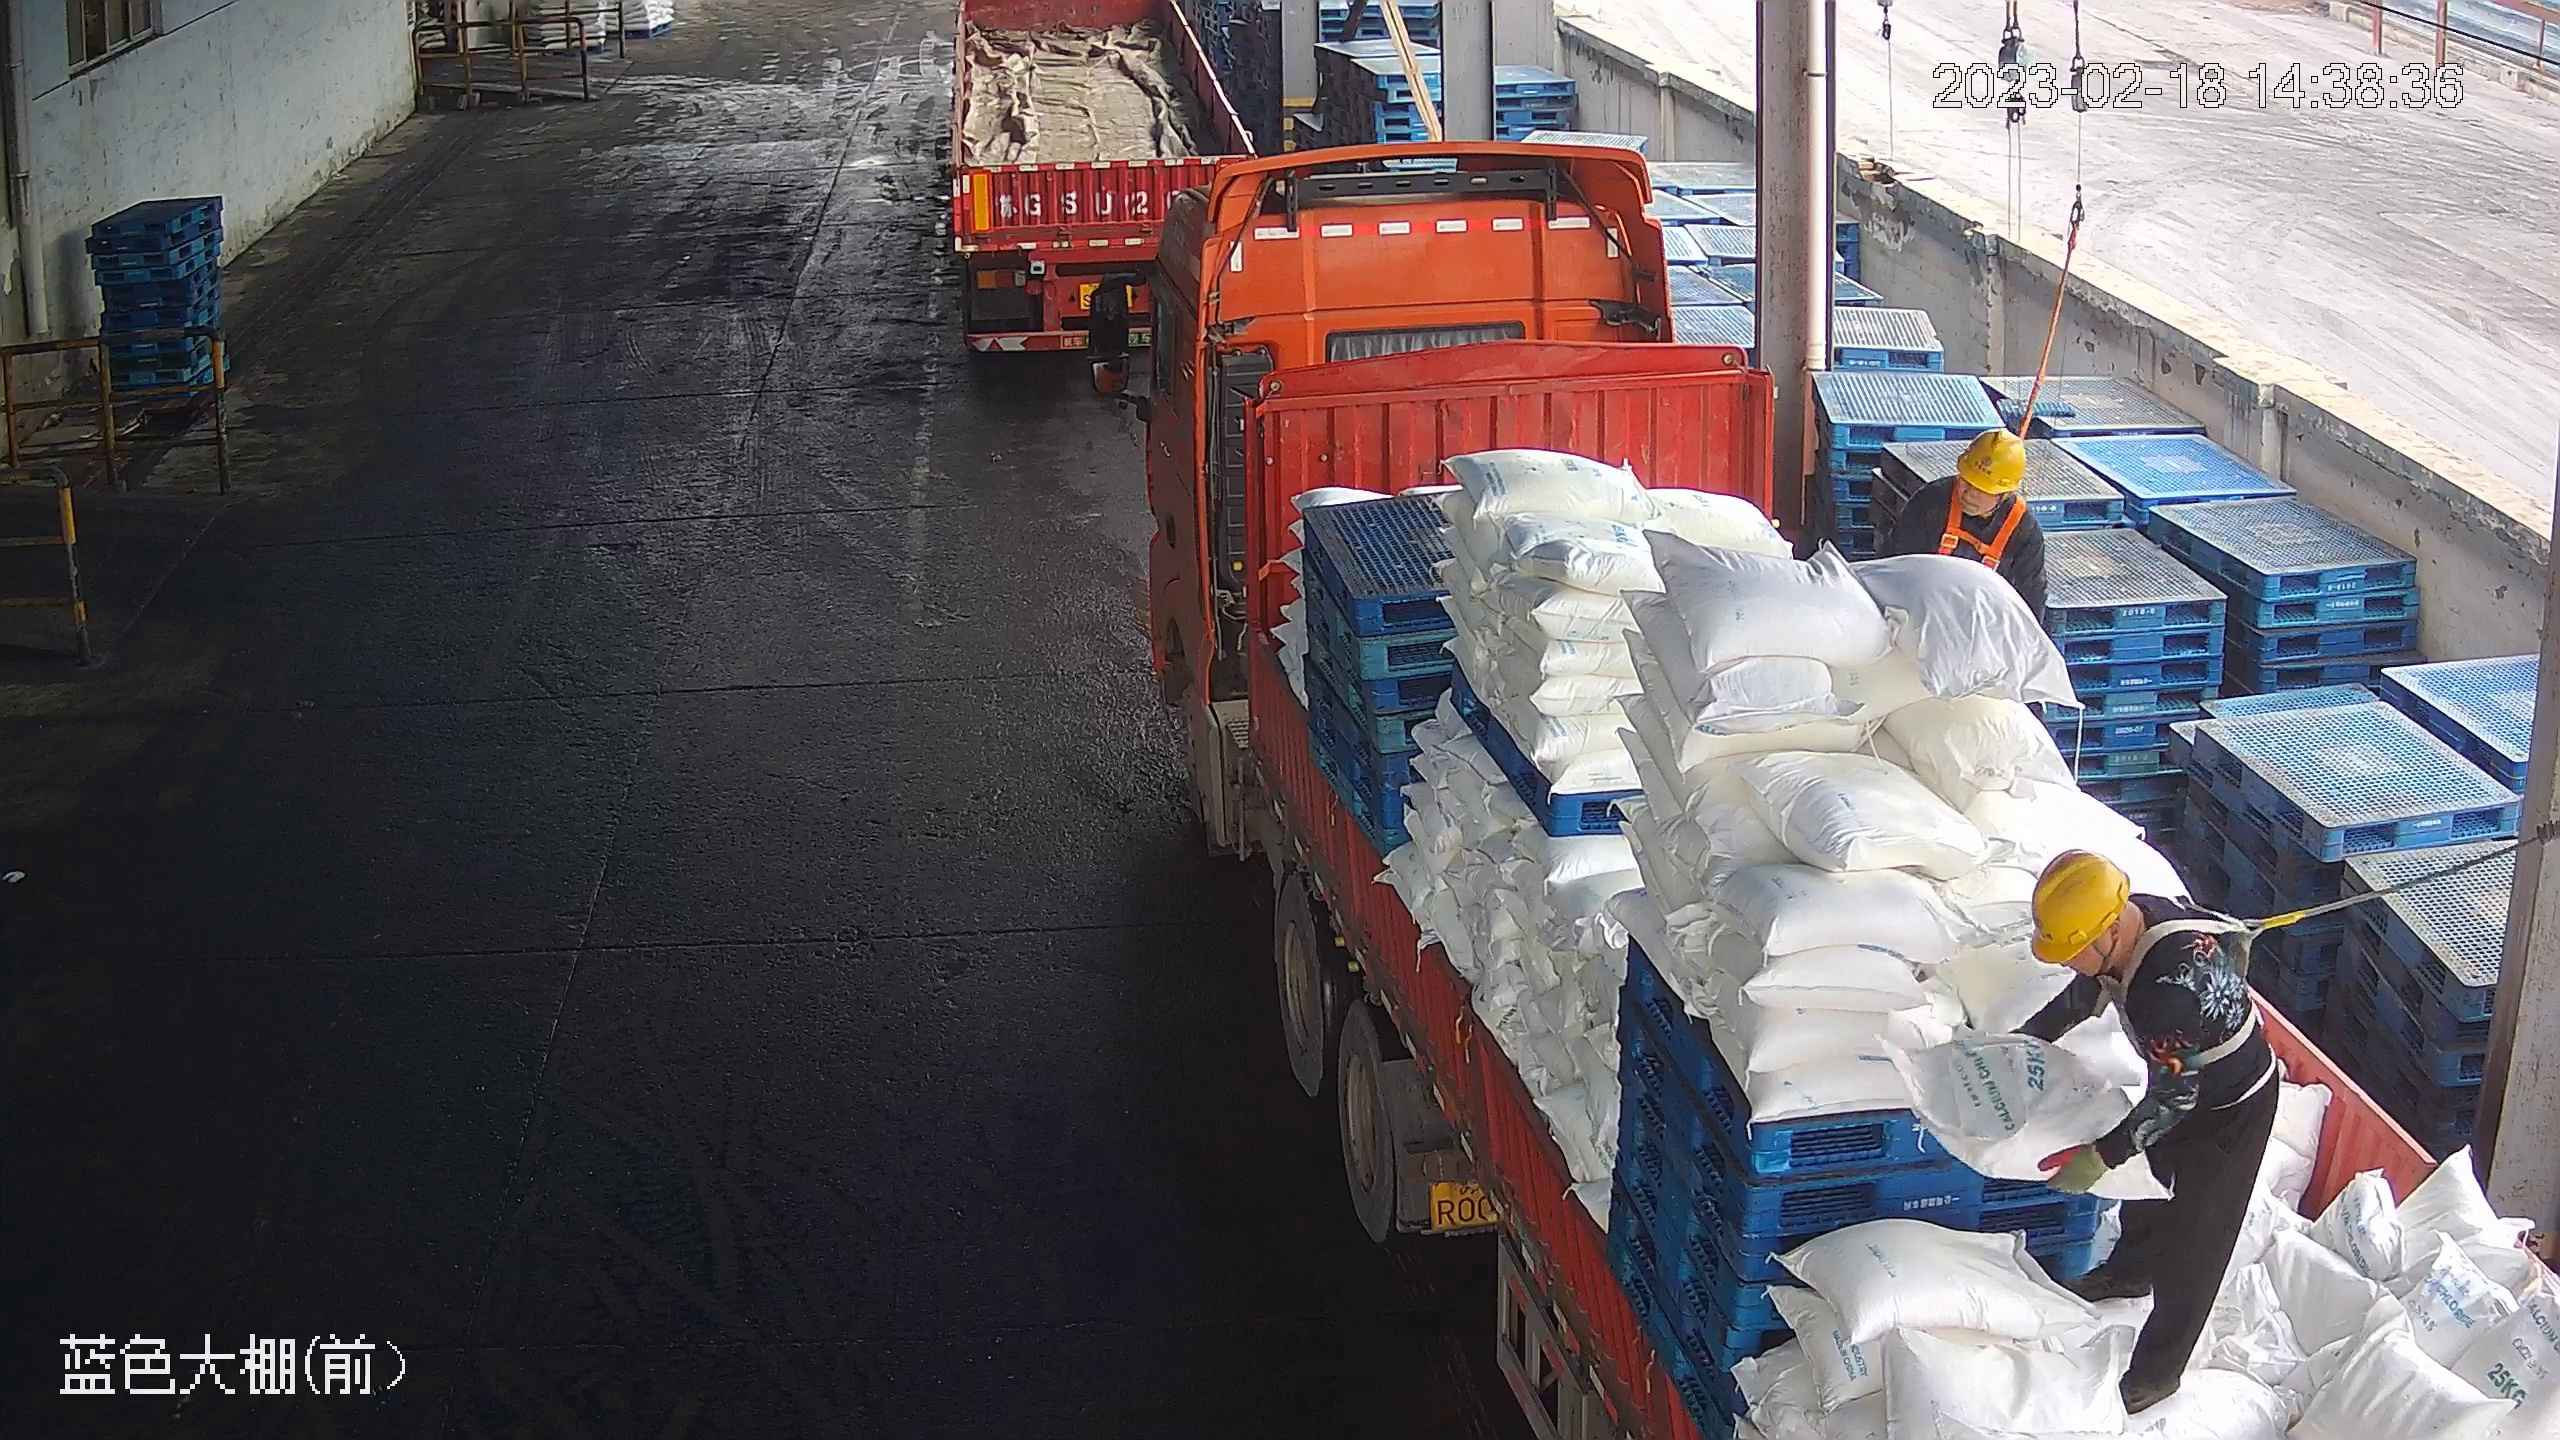belt: (2110, 898, 2295, 1080), (1937, 476, 2036, 577)
head: (2029, 847, 2237, 1046), (1900, 427, 2039, 539)
helmet: (2028, 846, 2133, 966), (1954, 425, 2026, 496)
people: (2014, 845, 2286, 1421)
truck: (1134, 153, 2557, 1437), (943, 6, 1279, 383)
